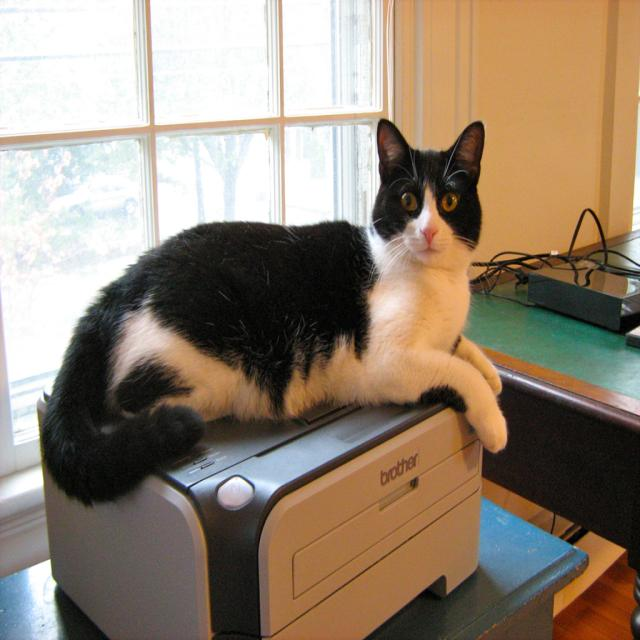Cat: (35, 114, 509, 508)
